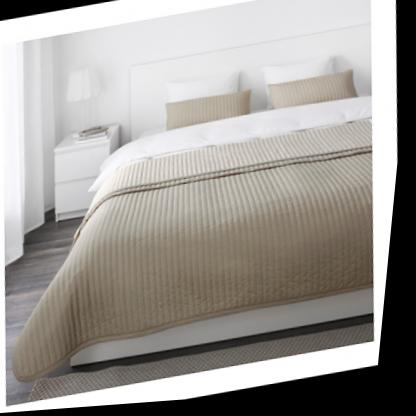Bed: (41, 22, 408, 377)
